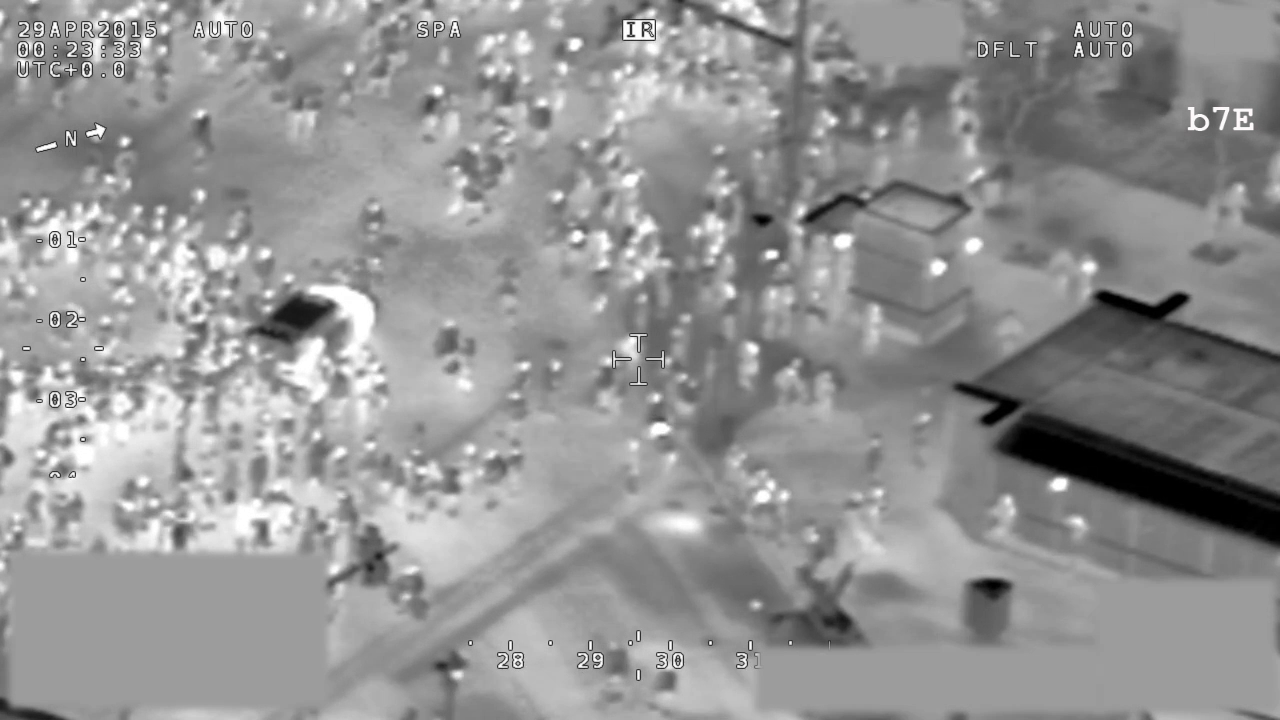vehicle: (241, 279, 384, 397)
